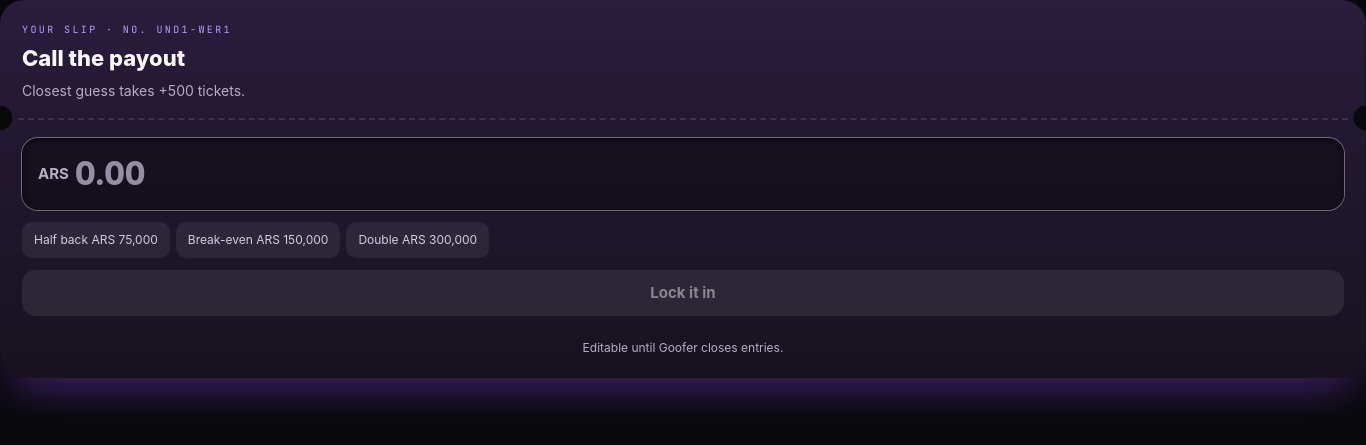
Test case: server errors are announced
In the field named "Final payout guess": (701, 174) x1=75 y1=142 x2=1328 y2=206, type "2000"
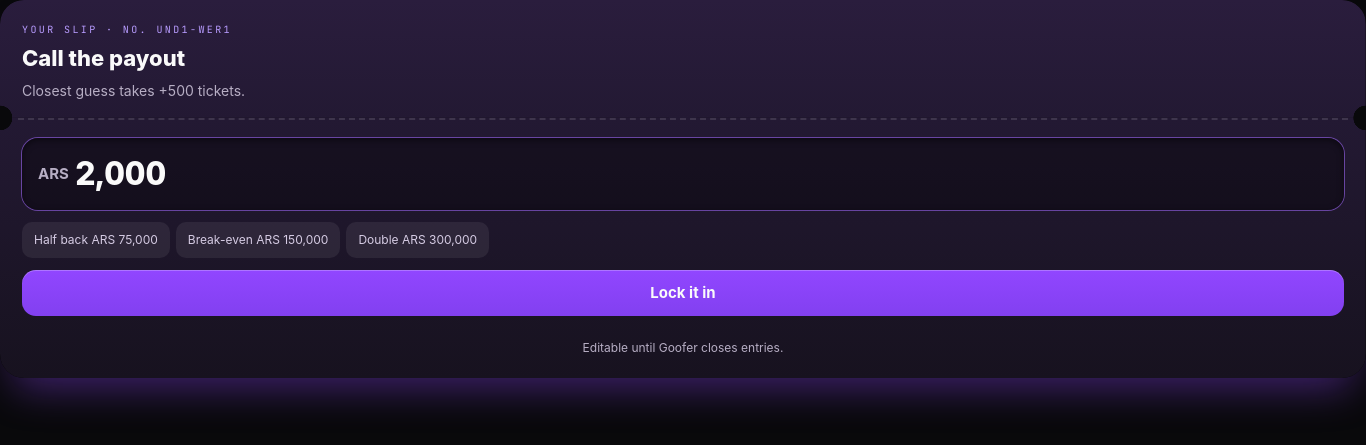
Click the button "Lock it in": (683, 293) x1=22 y1=270 x2=1344 y2=316
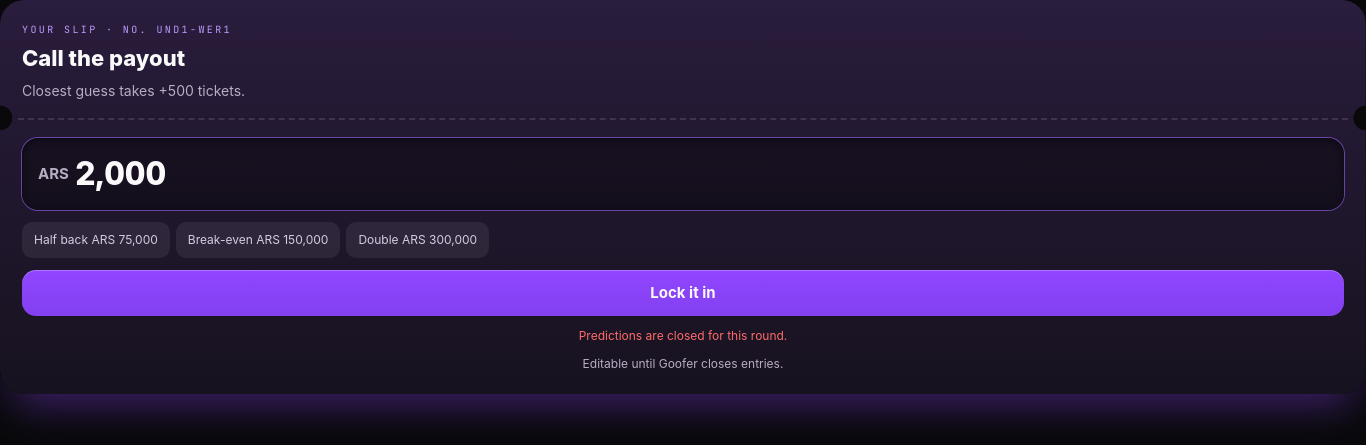
expect the message reads "Predictions are closed for this round.": met, box x1=579 y1=328 x2=787 y2=343
